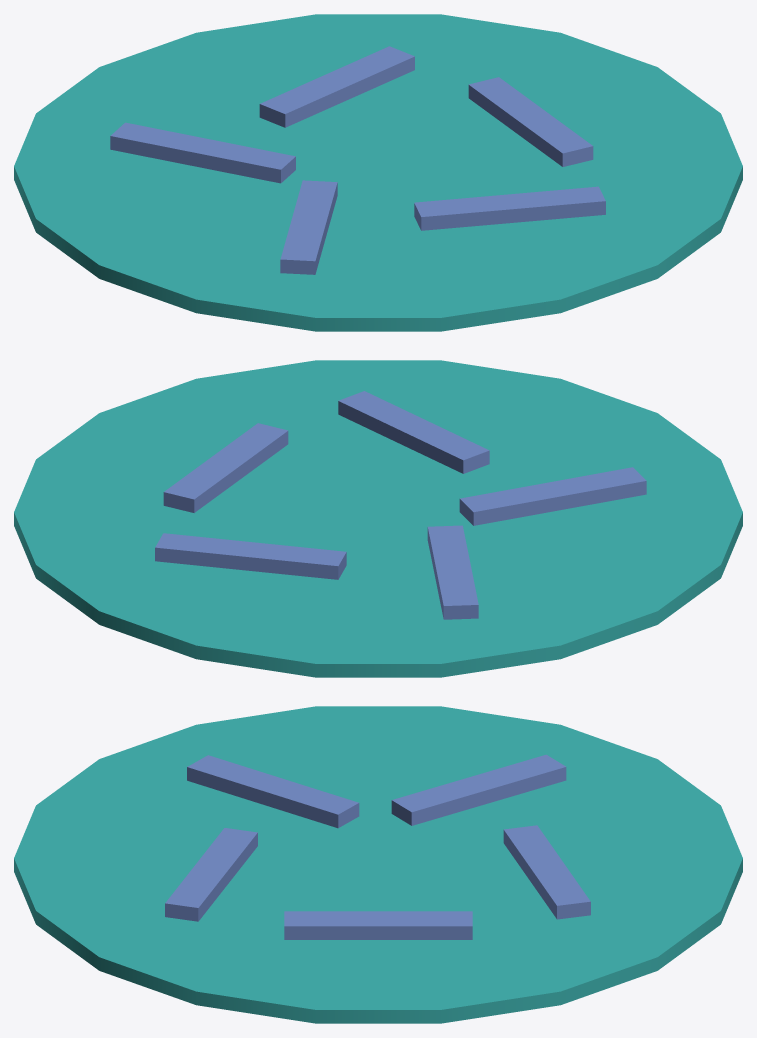
The model's file is ground-decal.glb.
3 views of the same model, one above another, from view 1: azimuth 30°, elevation 25°; view 2: azimuth 150°, elevation 25°; view 3: azimuth 270°, elevation 25° (orthographic).
Parts seen in each view (by area): view 1: decal_plate, rune_1, rune_3, rune_4, rune_0, rune_2; view 2: decal_plate, rune_4, rune_2, rune_1, rune_0, rune_3; view 3: decal_plate, rune_0, rune_3, rune_2, rune_1, rune_4.
Part boxes in pixels (x1,y1,x2,y2): decal_plate: (14,14,742,331); rune_1: (414,186,605,230); rune_3: (110,122,295,183); rune_4: (259,46,414,127); rune_0: (468,77,593,166); rune_2: (280,180,337,274); decal_plate: (14,360,742,677); rune_4: (155,533,346,579); rune_2: (459,467,646,525); rune_1: (338,391,489,473); rune_0: (163,423,288,512); rune_3: (427,525,478,619); decal_plate: (14,706,742,1023); rune_0: (284,911,472,939); rune_3: (391,754,566,825); rune_2: (187,755,359,828); rune_1: (165,828,257,921); rune_4: (503,825,590,919).
Size of what is drawn, in the model's own units: 2.86 by 0.12 by 2.9.
